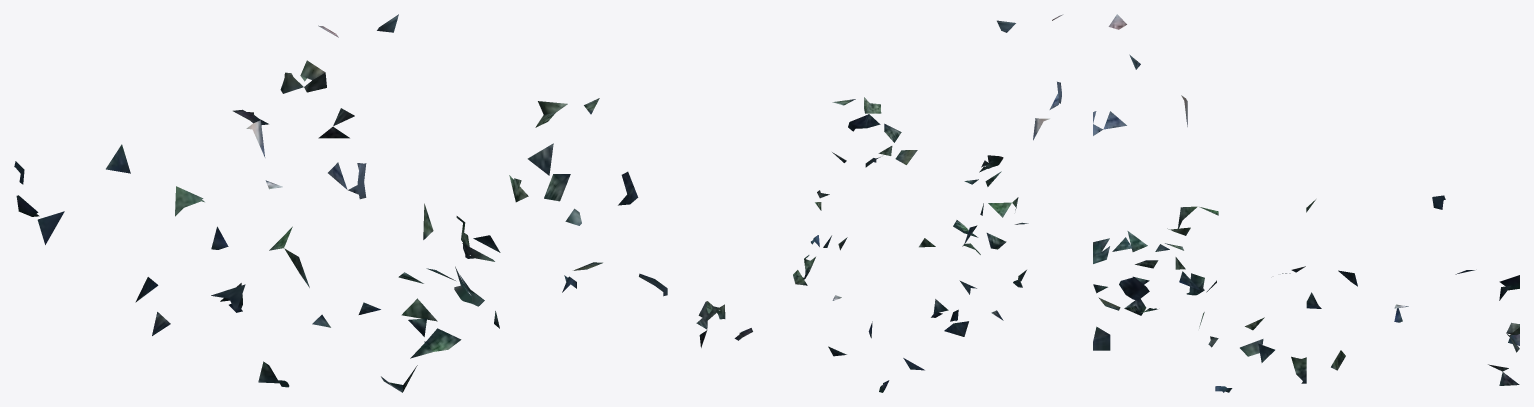
3 renders of one model, left to right at view 1: azimuth 30°, elevation 25°; view 2: azimuth 150°, elevation 25°; view 3: azimuth 270°, elevation 25°, orthographic. The views are drawn at different scales.
Parts seen in each view (by area): view 1: 30436272704361615637_1; view 2: 30436272704361615637_1; view 3: 30436272704361615637_1.
Boxes of the visible parts, x1,y1,x2,y2 form: 30436272704361615637_1: (14, 14, 667, 392); 30436272704361615637_1: (696, 14, 1063, 392); 30436272704361615637_1: (1093, 14, 1519, 392).
Size of the model in its own units: 27.31 by 26.96 by 38.26.
Materials: 1 (1 with a texture image).
